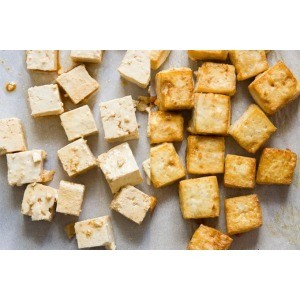tofu_brain food: (47, 65, 287, 203)
